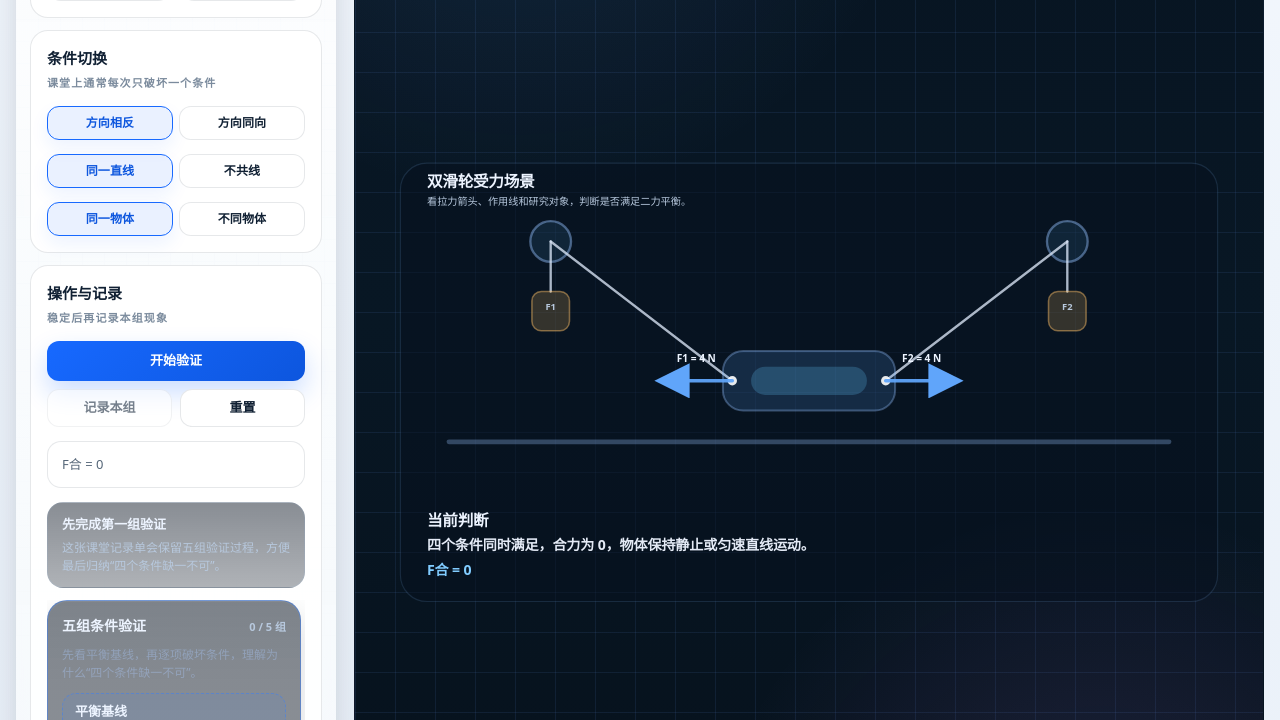
Test: TwoForceBalanceLab › invalidates the stable reading after changing a force parameter
The image size is (1280, 720).
(page scrolled)
Click the button "开始验证" at (176, 361), box [47, 341, 305, 381]
Wait 1200 ms
(page scrolled)
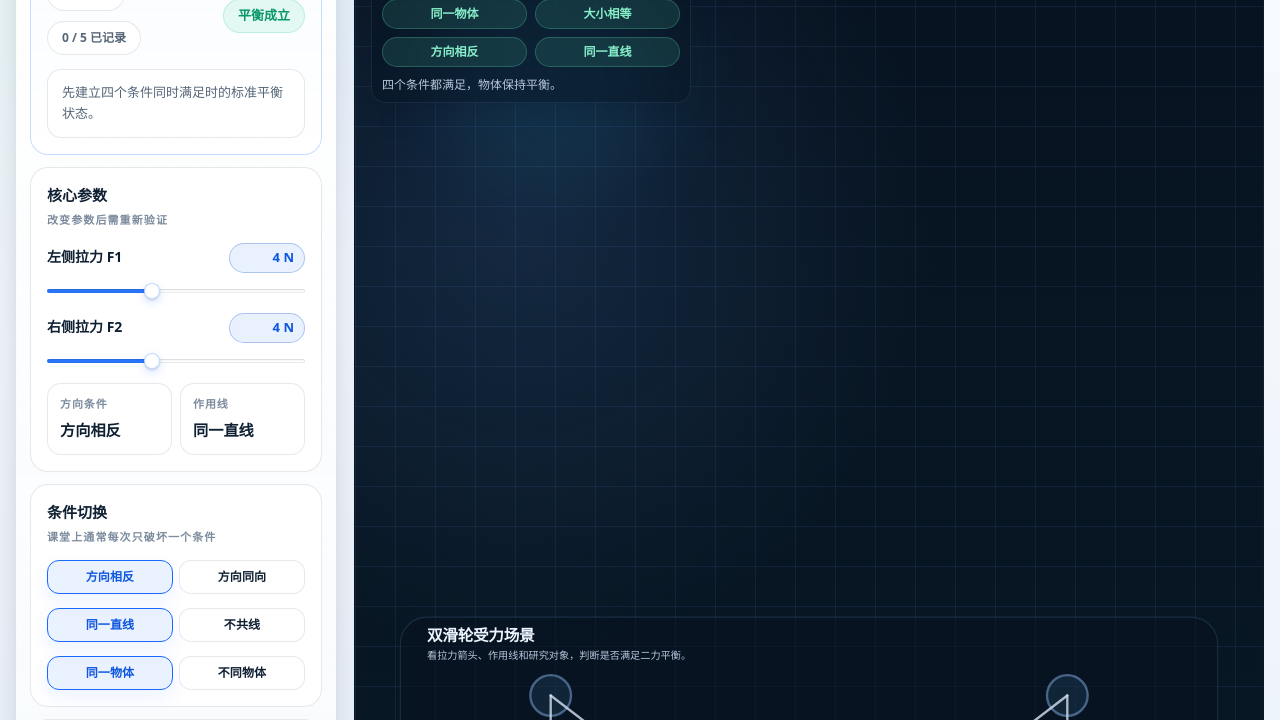
Set the slider labelled "右侧拉力 F2" to "6.5" at (212, 361), box [47, 353, 305, 369]
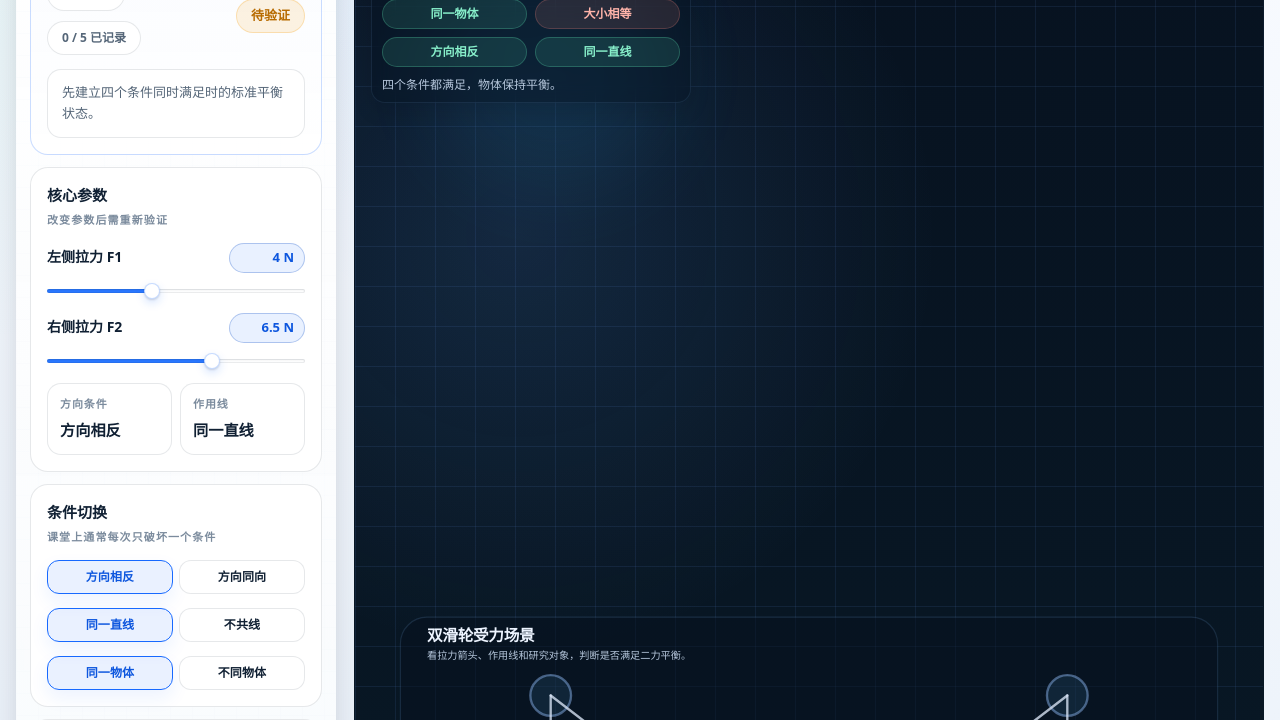
Now the text "待验证" is shown, box [236, 0, 305, 33]
